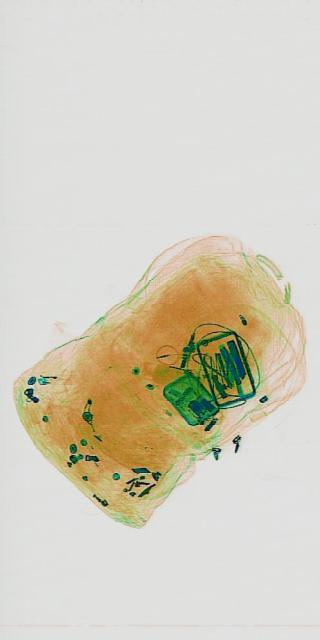Pliers: (200, 329, 238, 401)
